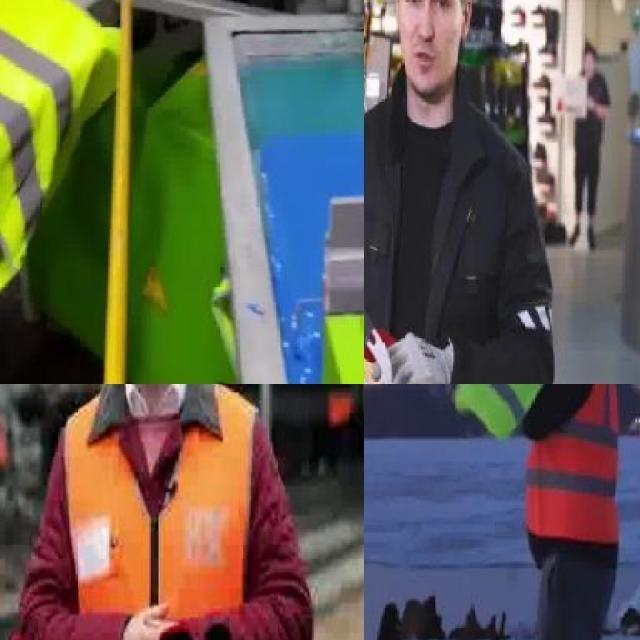apron: (370, 329, 446, 384)
